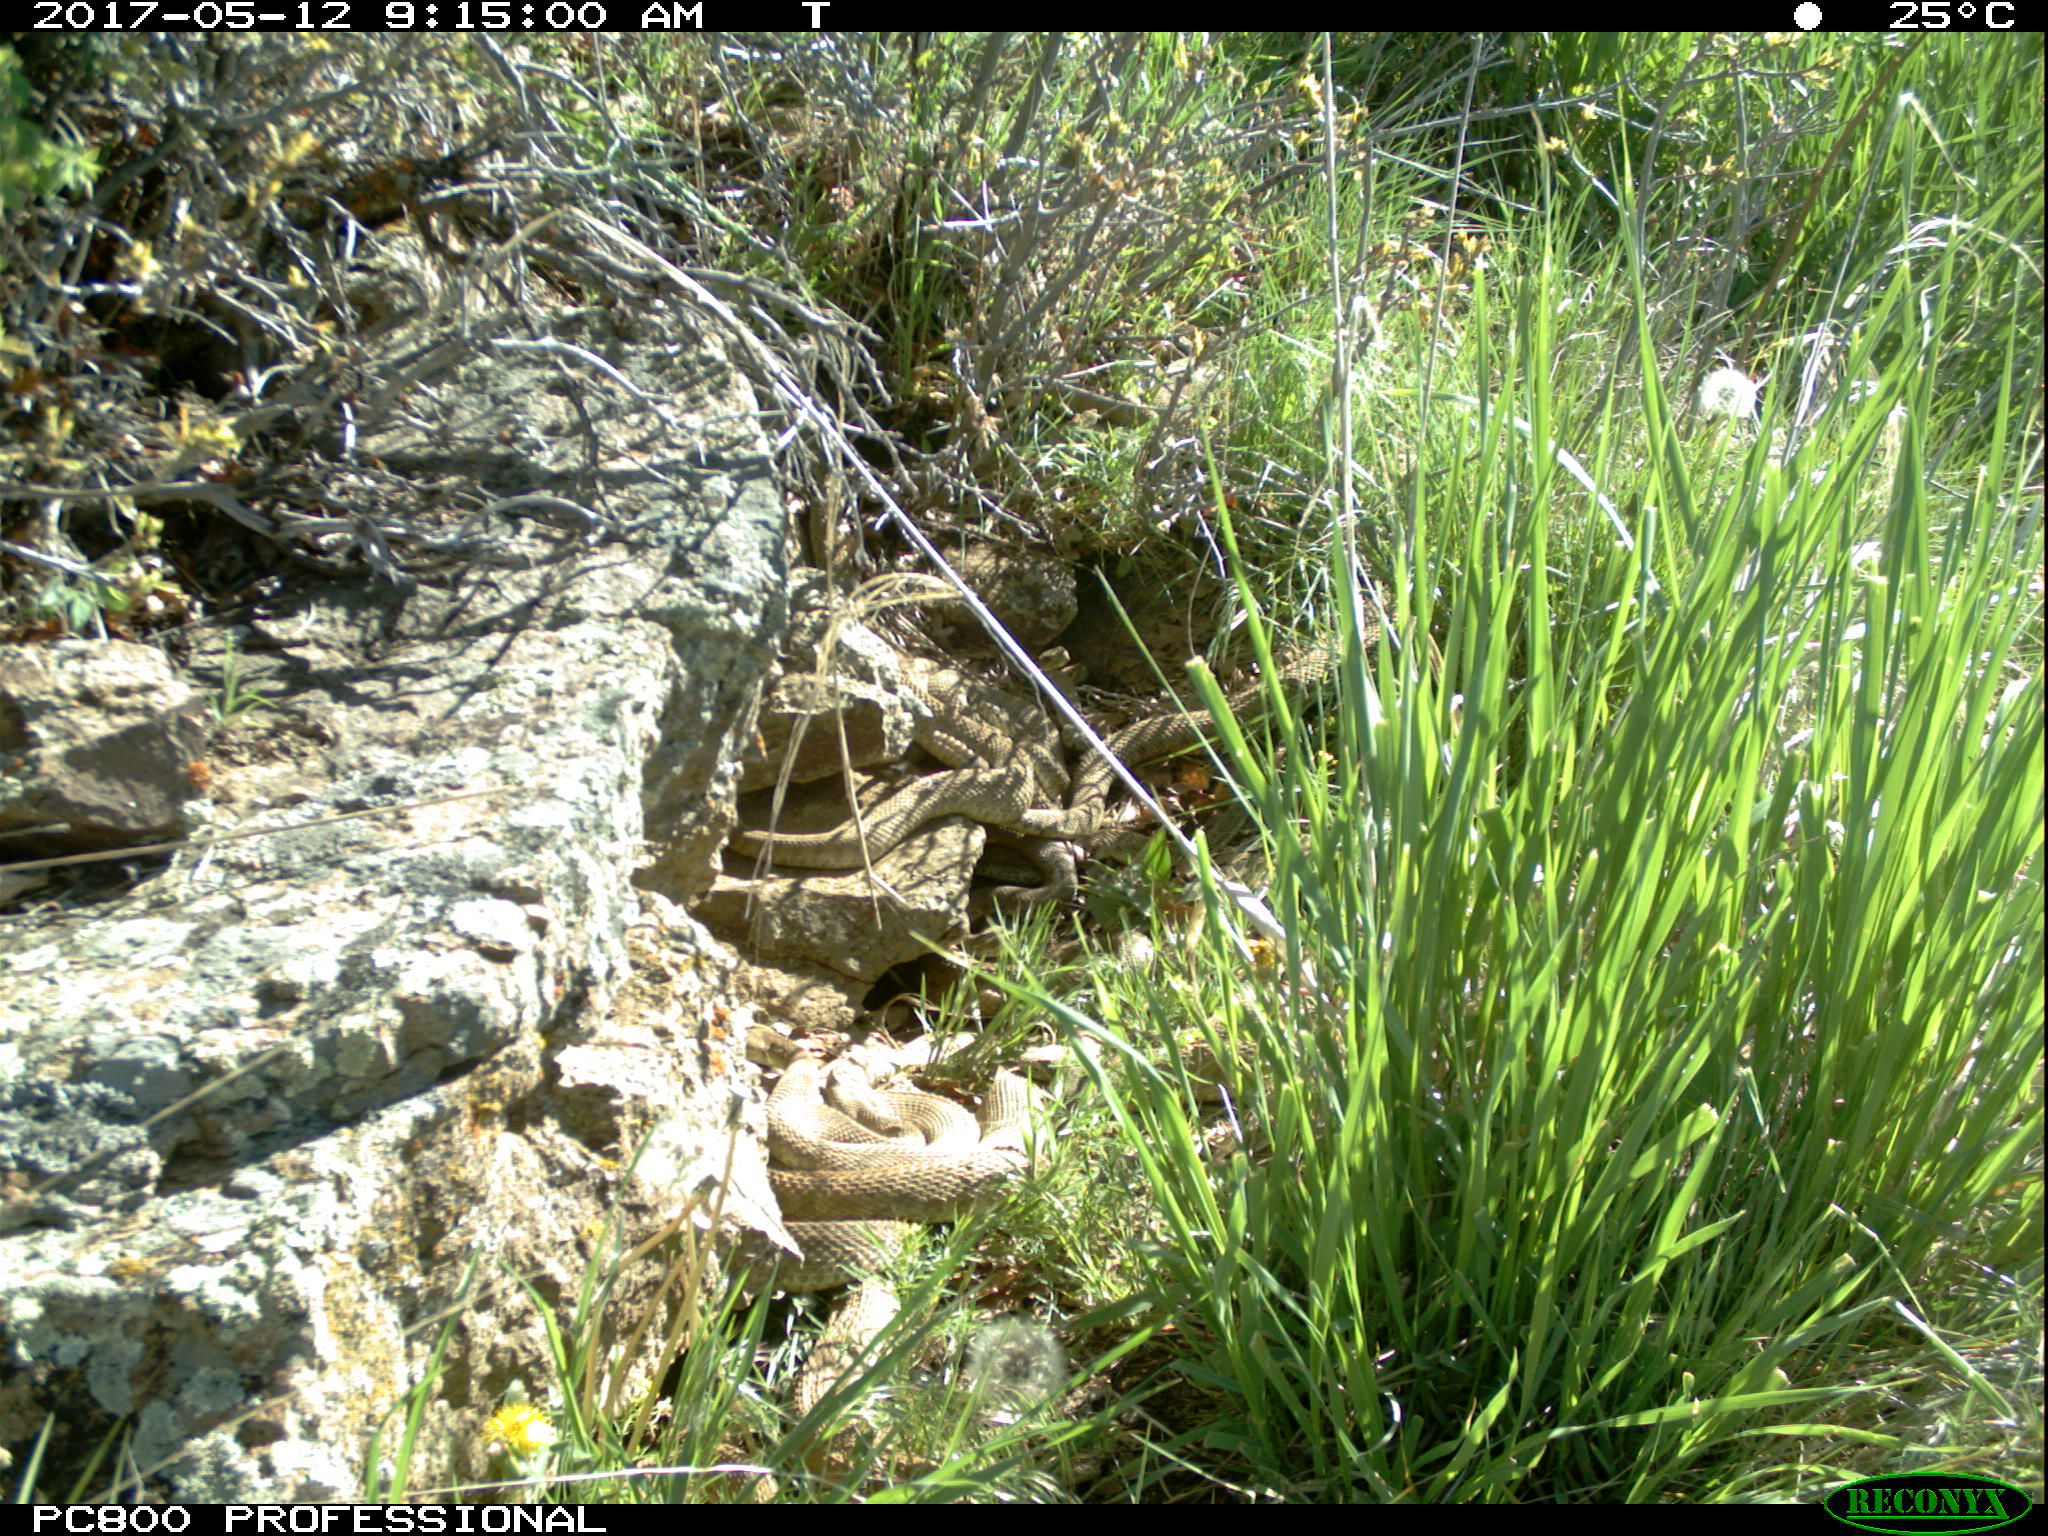snake: (761, 1034, 1059, 1218), (1014, 678, 1263, 826), (714, 765, 1042, 871), (784, 1271, 935, 1484), (910, 666, 1061, 799), (1250, 626, 1430, 703), (776, 1217, 935, 1292)
